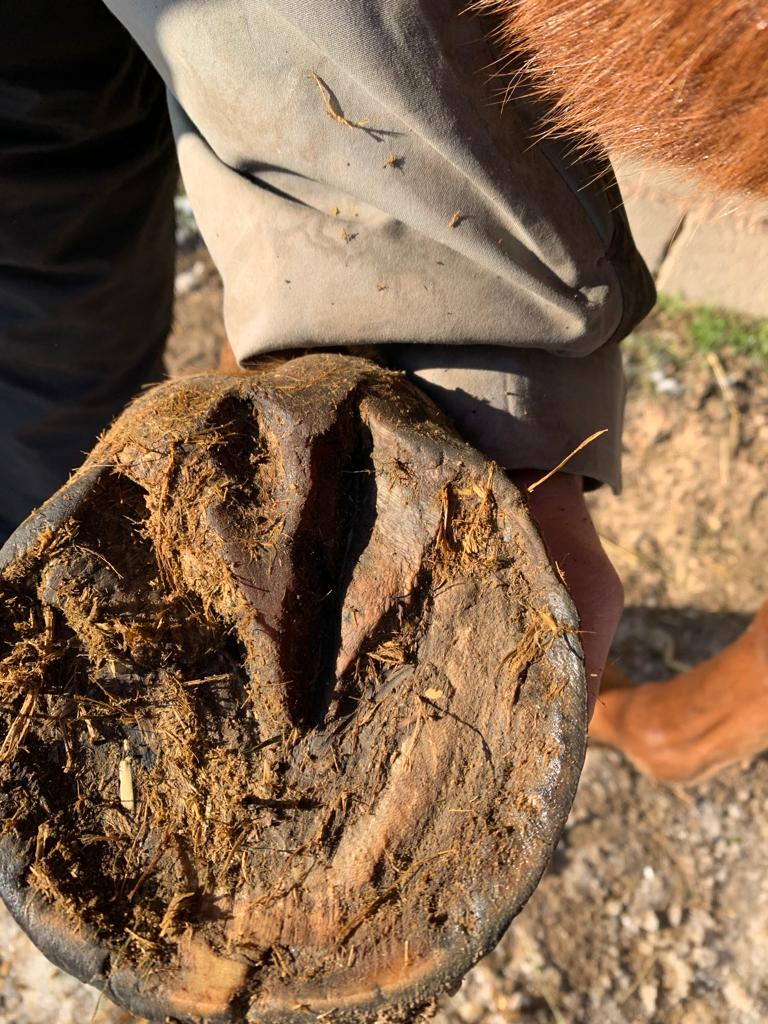horsesole: (1, 402, 589, 1024)
